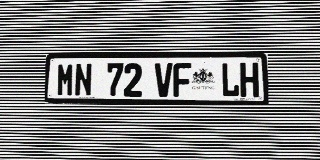2: (124, 63, 142, 97)
7: (106, 63, 124, 97)
F: (173, 63, 191, 97)
H: (240, 62, 259, 97)
L: (221, 63, 240, 97)
M: (57, 63, 74, 96)
N: (74, 63, 92, 97)
V: (155, 63, 173, 97)
